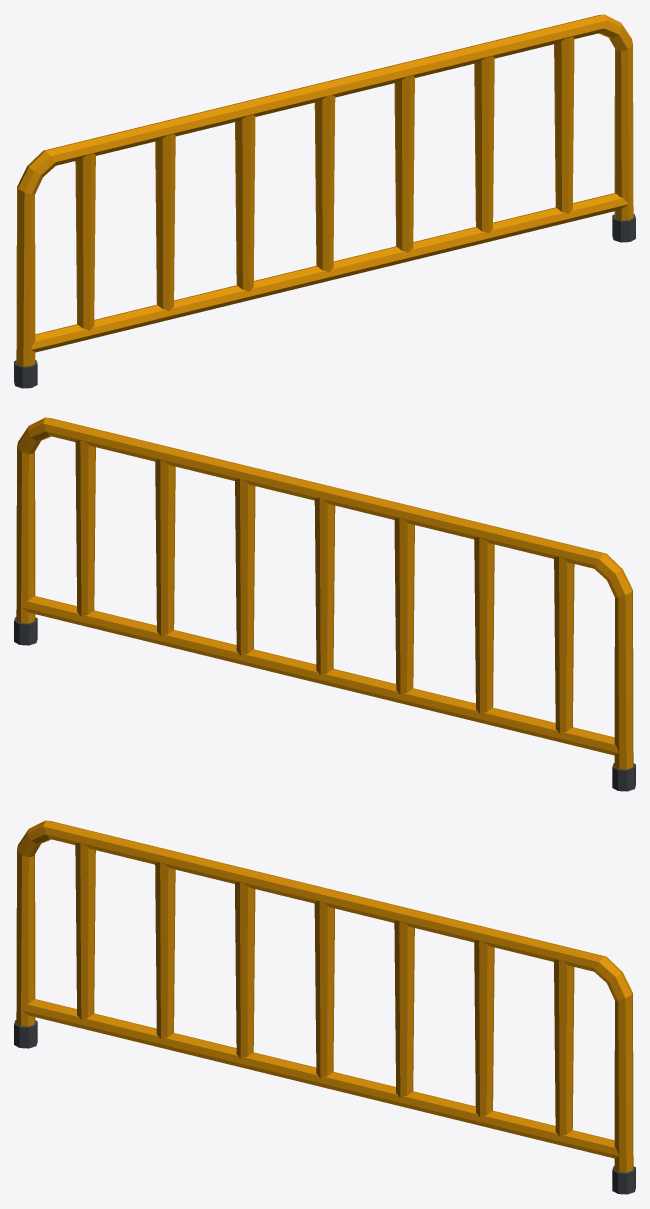
File: Fence_Straight_02.glb
The picture shows the model from 3 angles, top to bottom: view 1: azimuth 30°, elevation 25°; view 2: azimuth 150°, elevation 25°; view 3: azimuth 330°, elevation 25°; orthographic projection.
Visible parts, largest first — view 1: Fence_Straight_02; view 2: Fence_Straight_02; view 3: Fence_Straight_02.
Boxes of the visible parts, box(x1,y1,x2,y2) form: Fence_Straight_02: box(14, 14, 635, 388); Fence_Straight_02: box(14, 417, 635, 791); Fence_Straight_02: box(14, 820, 635, 1194).
Size of what is drawn, in the model's own units: 3.11 by 1.09 by 0.1063.
1 material, 1 textured.
